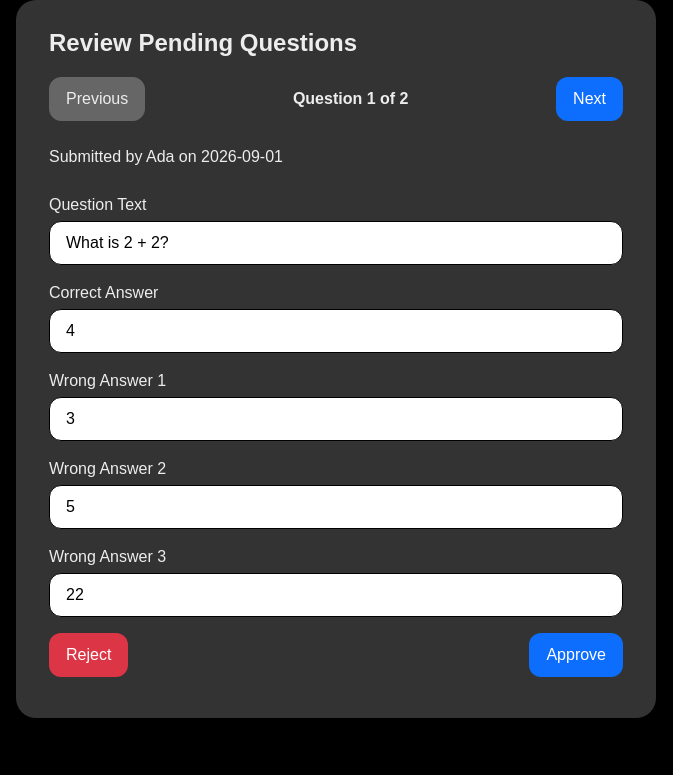
PendingQuestionsReview › shows an error when the review request fails
Click the button "Reject" at (89, 655), box [49,633,128,677]
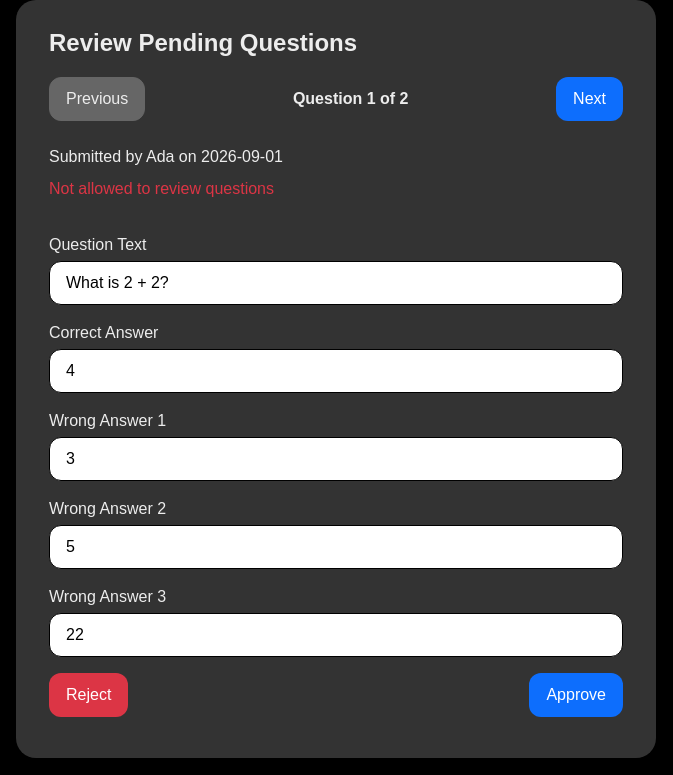
Expected: the field labelled "Question Text" holds "What is 2 + 2?", [49,261,623,305]
Now the text "Not allowed to review questions" is shown, box [49,180,274,197]
